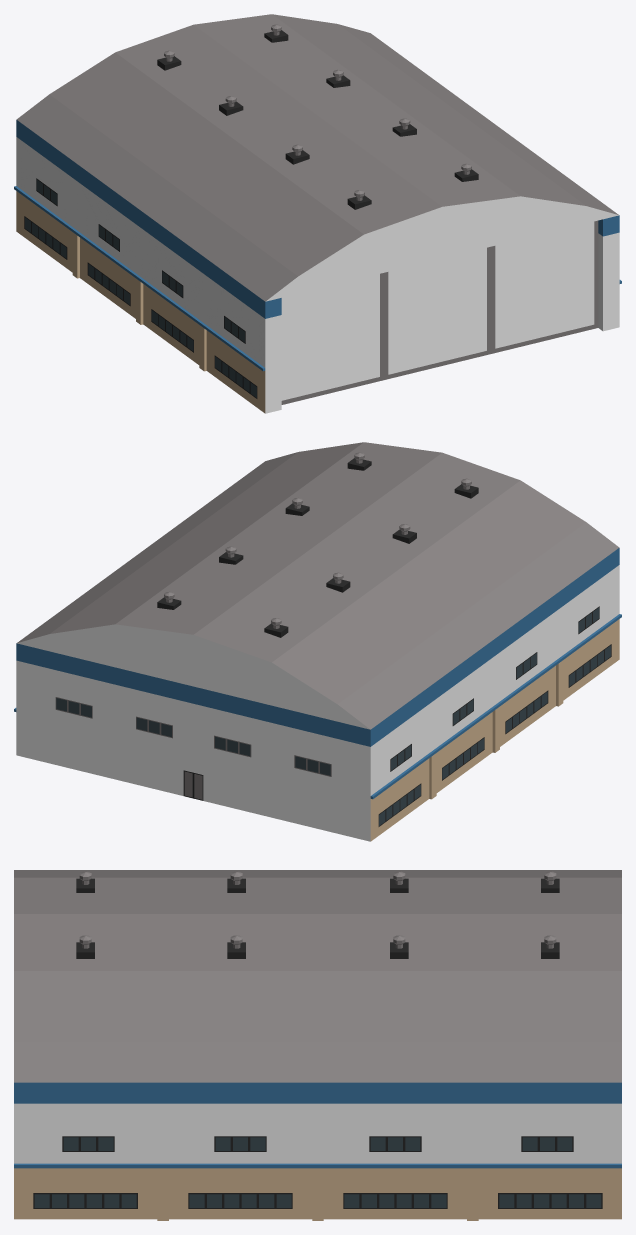
The model's file is buildings_airport-hangar.fbx.
3 views of the same model, one above another, from view 1: azimuth 30°, elevation 25°; view 2: azimuth 150°, elevation 25°; view 3: azimuth 270°, elevation 25° (orthographic). The views are drawn at different scales.
Visible parts, largest first — view 1: buildings_airport_hangar; view 2: buildings_airport_hangar; view 3: buildings_airport_hangar.
Part boxes in pixels (left/top/right/bottom): buildings_airport_hangar: left=14, top=14, right=621, bottom=413; buildings_airport_hangar: left=14, top=442, right=621, bottom=841; buildings_airport_hangar: left=14, top=870, right=621, bottom=1220.
Bounding box in the file's own units: 167 × 76.19 × 200.
